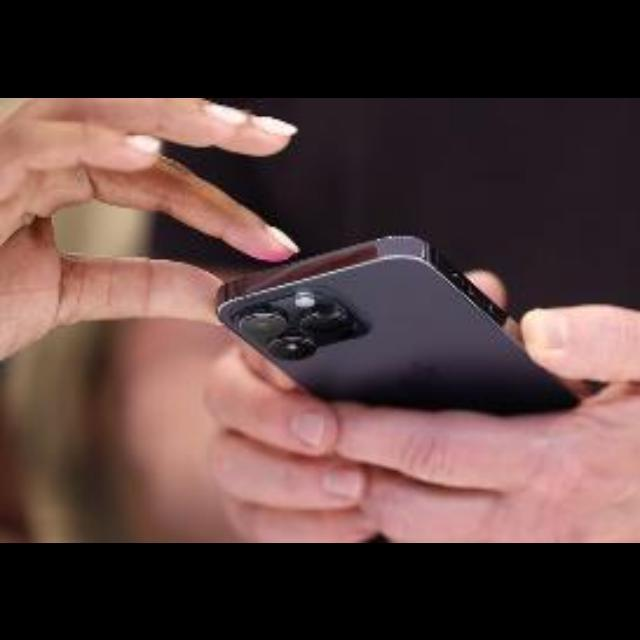PhoneUse: (220, 238, 610, 416)
